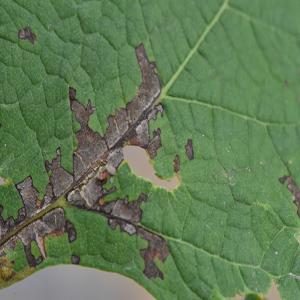Folha: (0, 0, 299, 299)
Fungo: (0, 40, 165, 276), (66, 42, 164, 209), (137, 225, 170, 281), (278, 174, 299, 218), (146, 127, 162, 159), (18, 25, 37, 44), (64, 218, 76, 242), (184, 138, 194, 160), (172, 154, 180, 172), (152, 127, 161, 139), (71, 254, 80, 264), (0, 118, 2, 148), (0, 108, 2, 134), (0, 220, 2, 244)
